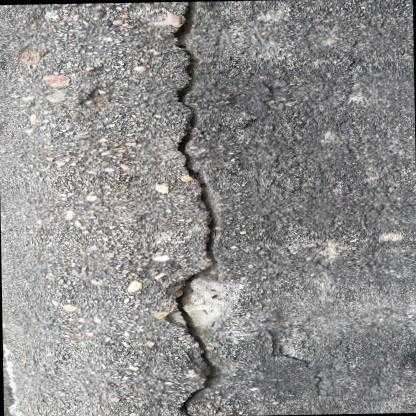crack: (173, 0, 219, 416)
